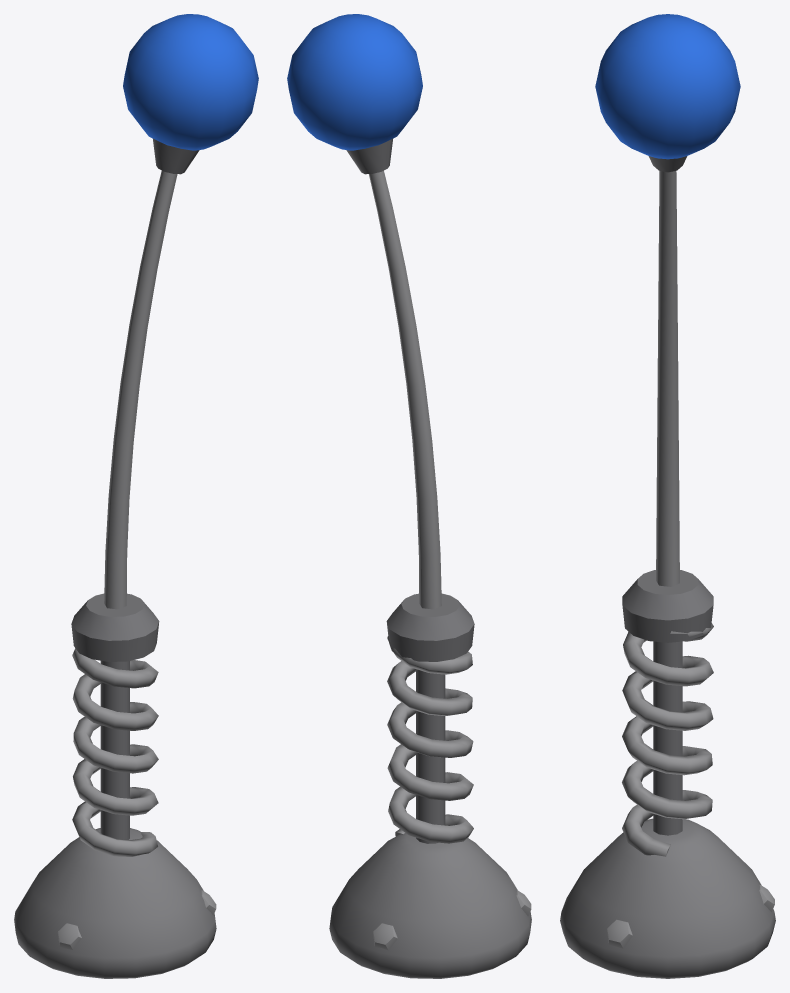
File: Kit_Deco_Antenna.glb
3 renders of one model, left to right at view 1: azimuth 30°, elevation 25°; view 2: azimuth 150°, elevation 25°; view 3: azimuth 270°, elevation 25°, orthographic. The views are drawn at different scales.
Visible parts, largest first — view 1: Kit_Deco_Antenna; view 2: Kit_Deco_Antenna; view 3: Kit_Deco_Antenna.
Boxes of the visible parts, x1,y1,x2,y2 form: Kit_Deco_Antenna: [14, 14, 258, 978]; Kit_Deco_Antenna: [287, 14, 531, 978]; Kit_Deco_Antenna: [560, 14, 775, 978].
Bounding box in the file's own units: 0.1052 × 0.406 × 0.0831.
